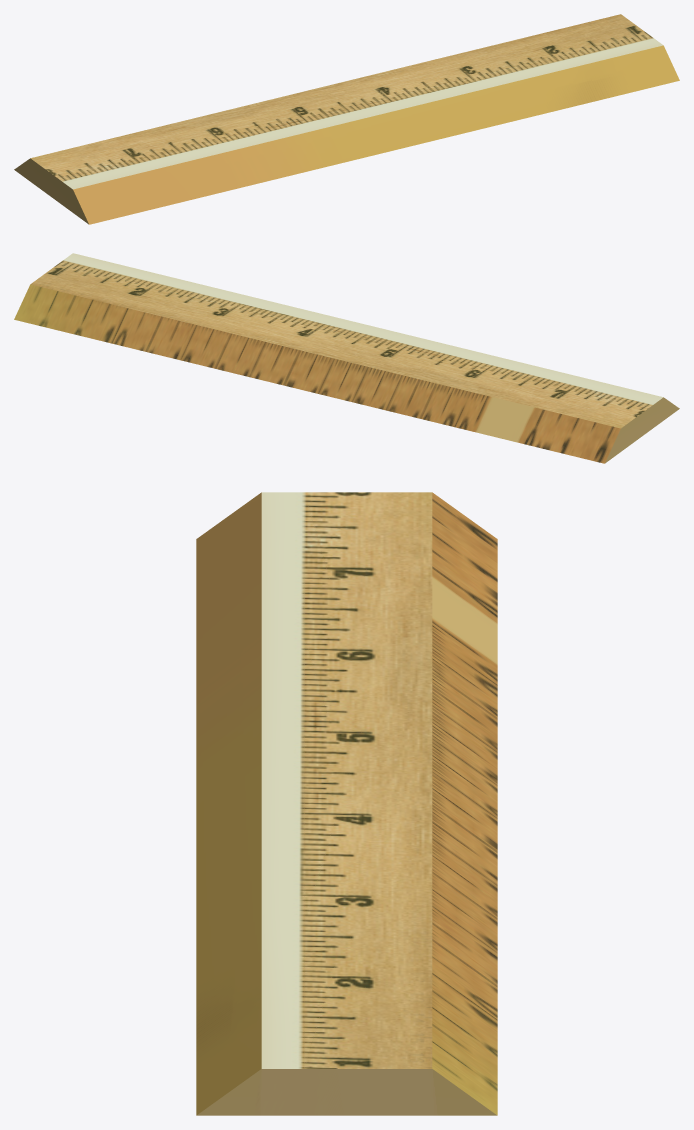
The model's file is ruler(1).fbx.
The picture shows the model from 3 angles, top to bottom: view 1: azimuth 30°, elevation 25°; view 2: azimuth 150°, elevation 25°; view 3: azimuth 270°, elevation 25°; orthographic projection. The views are drawn at different scales.
Parts seen in each view (by area): view 1: Plane; view 2: Plane; view 3: Plane.
Boxes of the visible parts, box(x1,y1,x2,y2) form: Plane: box(14, 14, 679, 224); Plane: box(14, 253, 679, 463); Plane: box(196, 492, 497, 1115).
Bounding box in the file's own units: 568 × 21.49 × 125.
